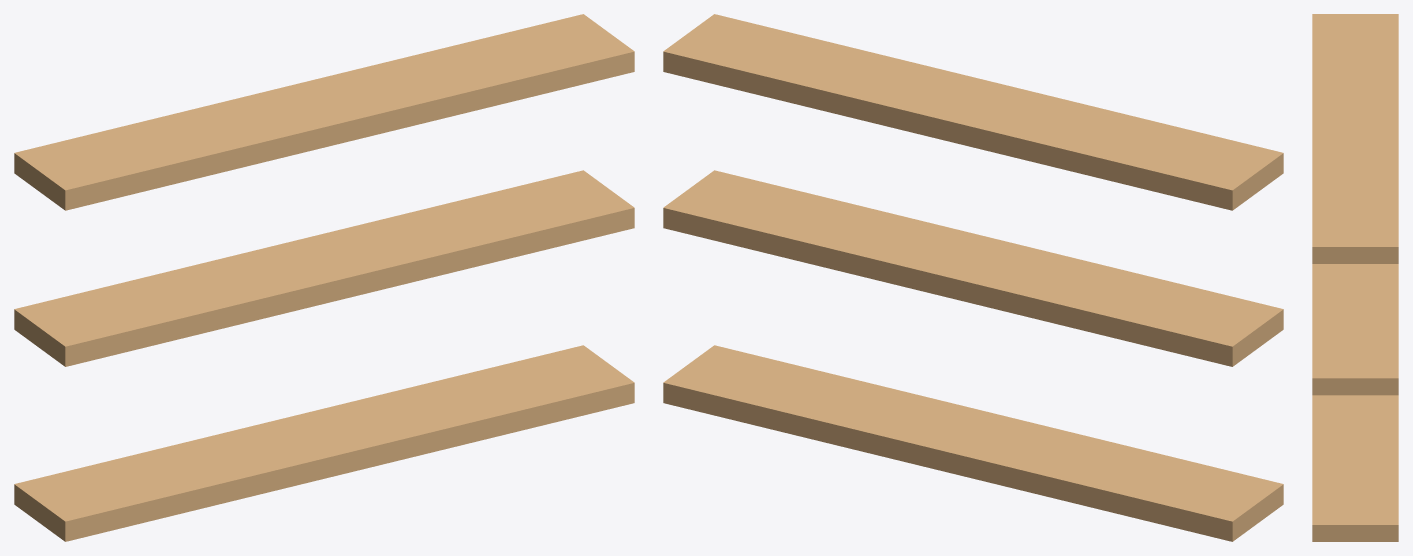
Rendered from Estantería.fbx.
3 views of the same model, side by side, from view 1: azimuth 30°, elevation 25°; view 2: azimuth 150°, elevation 25°; view 3: azimuth 270°, elevation 25° (orthographic). The views are drawn at different scales.
Parts seen in each view (by area): view 1: Estantes; view 2: Estantes; view 3: Estantes.
Part boxes in pixels (x1=…): Estantes: x1=14, y1=14, x2=634, y2=541; Estantes: x1=663, y1=14, x2=1283, y2=541; Estantes: x1=1312, y1=14, x2=1398, y2=541.
Size of the model in its own units: 19.6 by 11.56 by 3.06.
